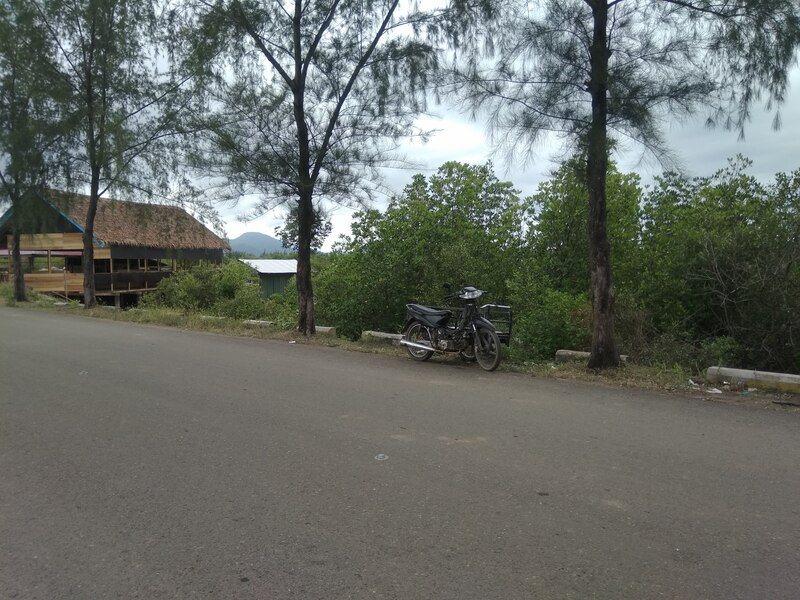becak barang: (395, 275, 523, 378)
